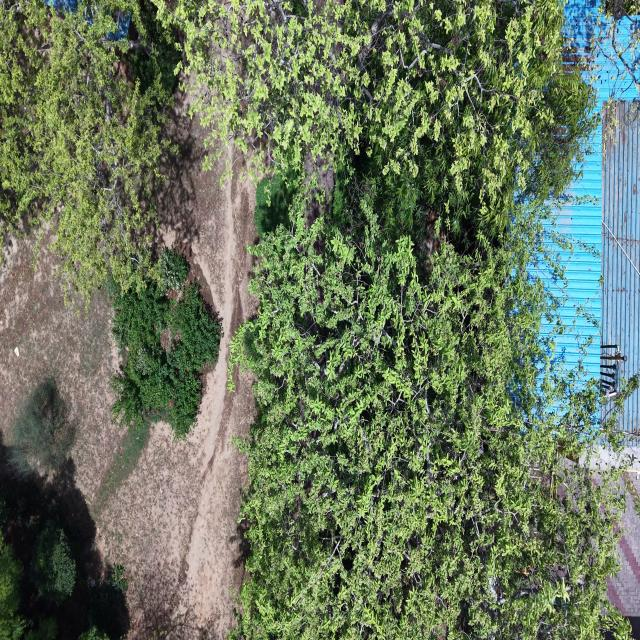DRY_AREA: (0, 109, 256, 639), (0, 110, 256, 637), (101, 118, 255, 636), (181, 181, 256, 633), (0, 238, 121, 501), (591, 446, 639, 629), (607, 471, 639, 618)
ROOFTOP_BUILDING: (554, 0, 639, 397), (555, 0, 639, 395), (600, 101, 639, 388), (600, 100, 639, 385), (607, 474, 639, 617), (107, 11, 131, 40)
VEGETATION_TREE: (0, 0, 628, 639), (159, 0, 627, 639), (0, 0, 591, 295), (232, 197, 624, 639), (158, 0, 592, 234), (0, 0, 220, 436), (0, 0, 178, 297), (0, 443, 128, 639), (0, 380, 84, 639), (112, 250, 221, 437), (0, 522, 122, 639), (573, 0, 639, 100), (10, 380, 74, 474), (93, 422, 149, 515), (31, 521, 75, 603), (0, 530, 25, 639), (254, 174, 297, 237), (158, 251, 189, 292), (25, 618, 58, 639), (80, 627, 109, 639)
